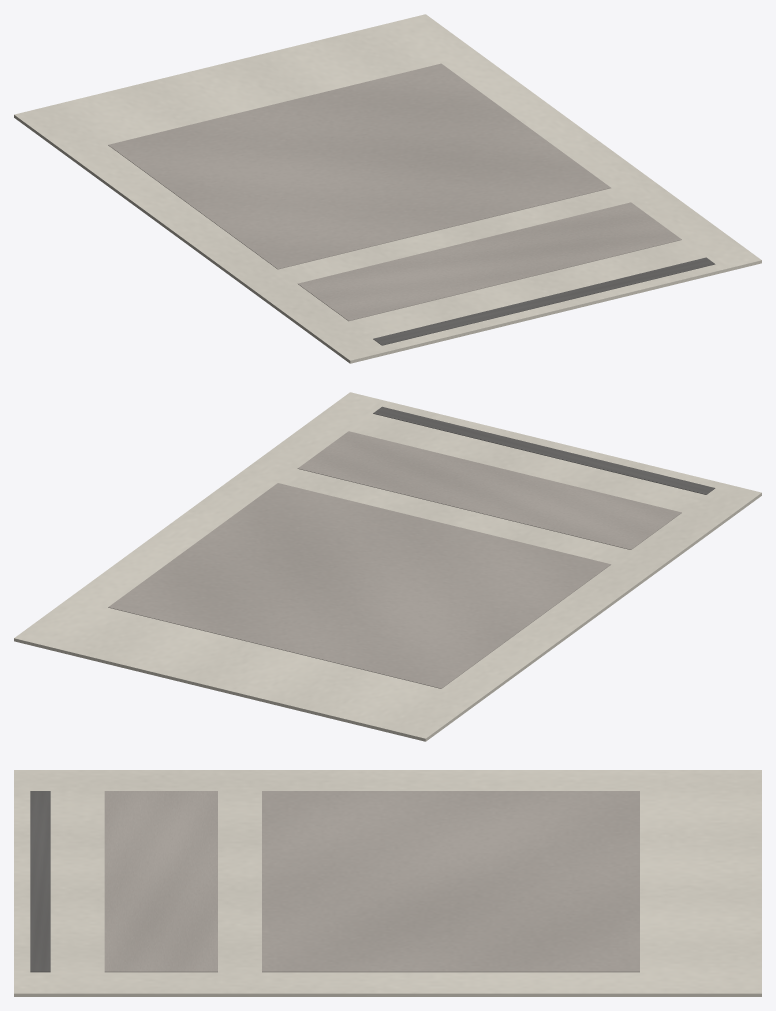
Rendered from mission_description_page.glb.
3 views of the same model, one above another, from view 1: azimuth 30°, elevation 25°; view 2: azimuth 150°, elevation 25°; view 3: azimuth 270°, elevation 25° (orthographic). The views are drawn at different scales.
Visible parts, largest first — view 1: paper.001, description_texture_surface, title_texture_surface.001, file_index_strip.001; view 2: paper.001, description_texture_surface, title_texture_surface.001, file_index_strip.001; view 3: paper.001, description_texture_surface, title_texture_surface.001, file_index_strip.001.
Part boxes in pixels (<box>): paper.001: <box>14,14,761,363</box>; description_texture_surface: <box>108,63,610,269</box>; title_texture_surface.001: <box>298,202,681,321</box>; file_index_strip.001: <box>373,257,715,345</box>; paper.001: <box>14,392,761,741</box>; description_texture_surface: <box>108,483,610,688</box>; title_texture_surface.001: <box>297,431,681,549</box>; file_index_strip.001: <box>373,406,715,494</box>; paper.001: <box>14,770,761,996</box>; description_texture_surface: <box>262,791,639,972</box>; title_texture_surface.001: <box>104,791,217,972</box>; file_index_strip.001: <box>30,791,50,972</box>.
Bounding box in the file's own units: 0.21 × 0.0017 × 0.297.
Materials: 3 (3 with a texture image).
